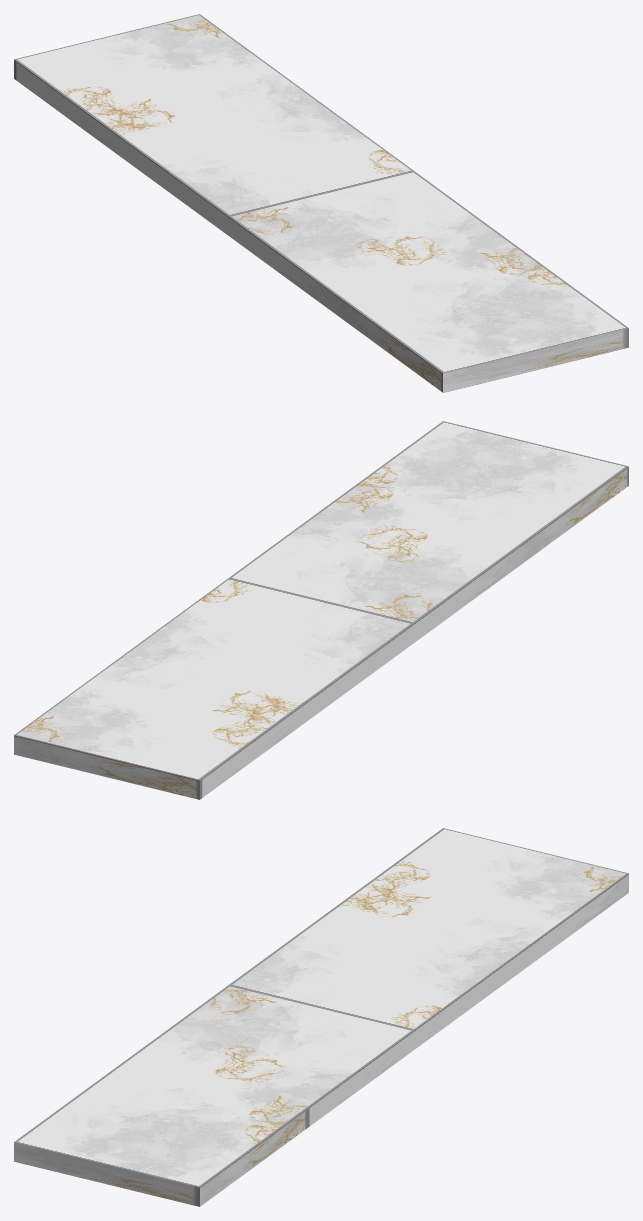
The model's file is ParkourGroundMarble3.fbx.
3 views of the same model, one above another, from view 1: azimuth 30°, elevation 25°; view 2: azimuth 150°, elevation 25°; view 3: azimuth 330°, elevation 25° (orthographic).
Visible parts, largest first — view 1: Plane.002; view 2: Plane.002; view 3: Plane.002.
Boxes of the visible parts, x1,y1,x2,y2 form: Plane.002: (14,14,628,392); Plane.002: (14,421,628,799); Plane.002: (14,828,628,1206).
Bounding box in the file's own units: 10 × 1 × 40.
Materials: 1 (1 with a texture image).
